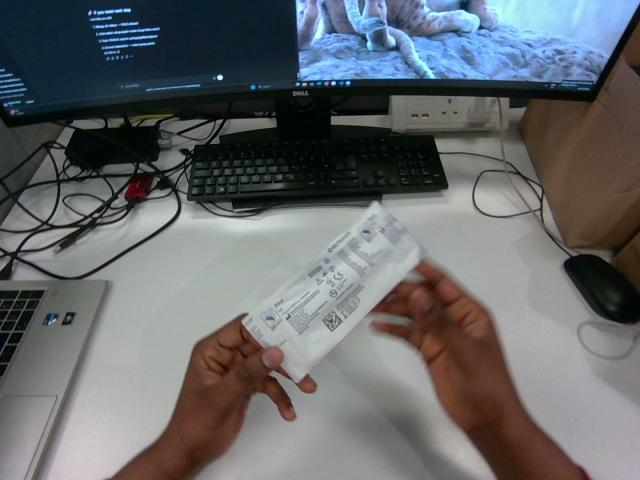syringe: (243, 202, 425, 381)
